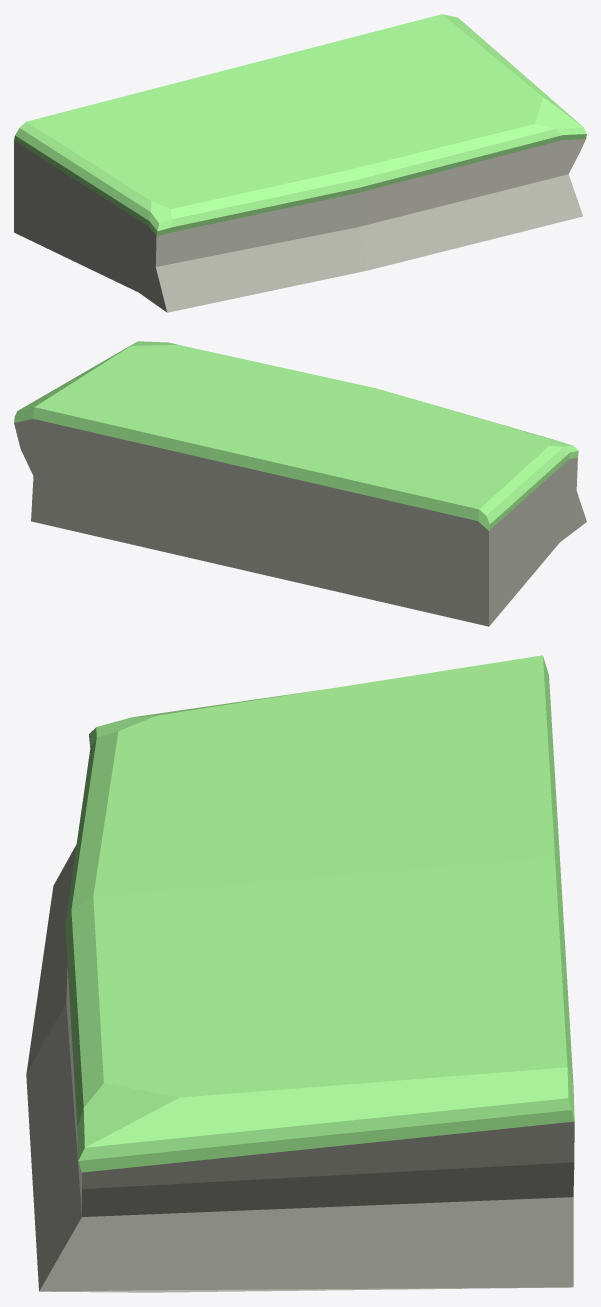
File: SingleRock1.fbx
3 views of the same model, one above another, from view 1: azimuth 30°, elevation 25°; view 2: azimuth 150°, elevation 25°; view 3: azimuth 270°, elevation 25° (orthographic). The views are drawn at different scales.
Parts seen in each view (by area): view 1: Cube.002, Cube.001; view 2: Cube.001, Cube.002; view 3: Cube.002, Cube.001.
Part boxes in pixels (<box>): Cube.002: <box>14,14,586,236</box>; Cube.001: <box>14,139,585,312</box>; Cube.001: <box>14,419,586,626</box>; Cube.002: <box>14,341,578,530</box>; Cube.002: <box>65,655,574,1172</box>; Cube.001: <box>26,844,574,1292</box>.
Bounding box in the file's own units: 271 × 62.06 × 141.
